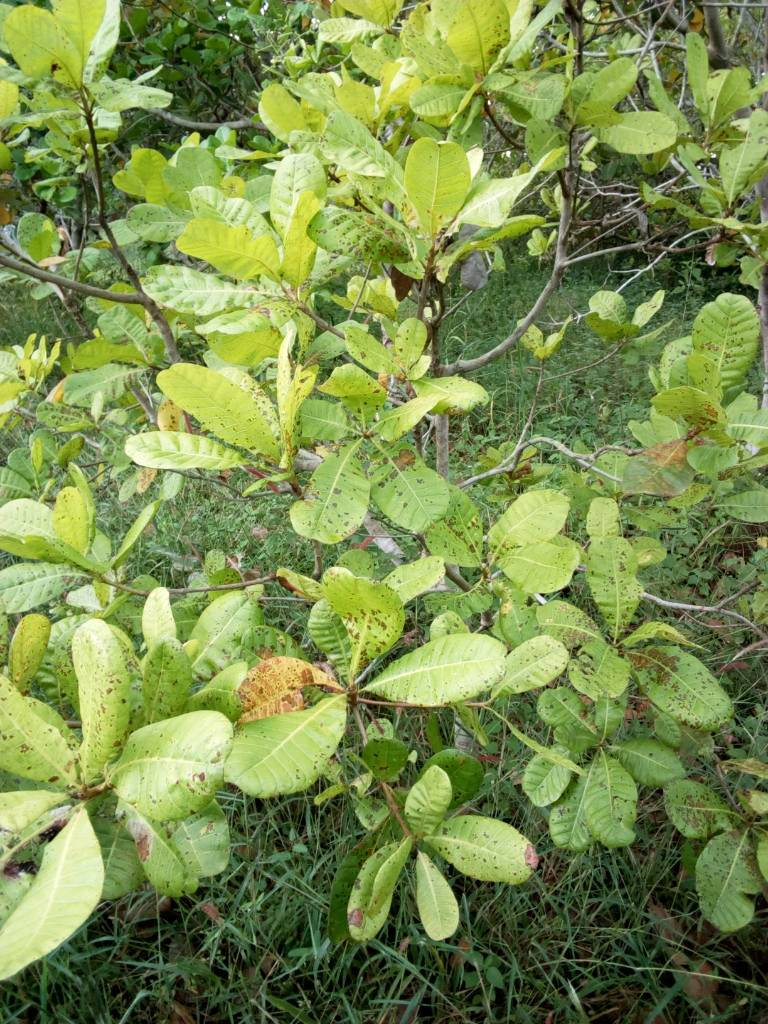Anthracnose: (1, 678, 83, 789), (290, 438, 371, 546), (630, 642, 729, 730), (688, 291, 768, 399), (310, 205, 419, 274), (322, 567, 405, 657), (235, 652, 347, 714)
